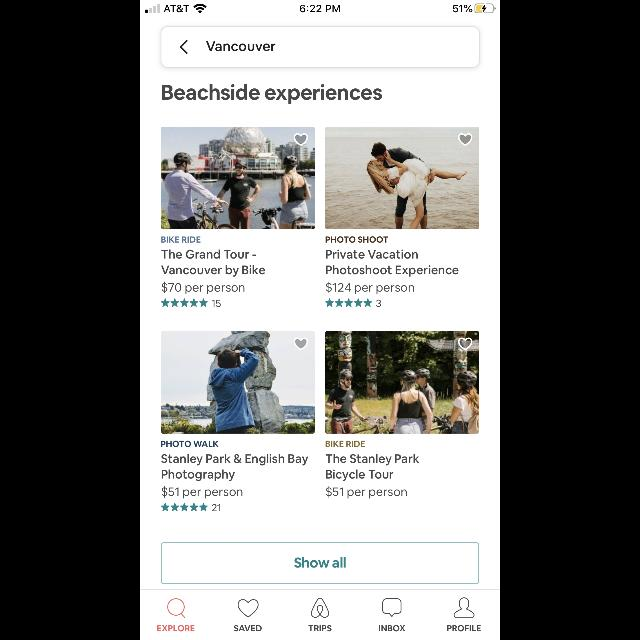icon: (326, 298, 372, 308), (454, 598, 474, 618), (382, 598, 402, 618), (160, 503, 208, 511), (160, 299, 208, 307), (238, 599, 258, 617), (168, 598, 186, 618), (294, 338, 308, 350), (458, 338, 472, 350), (458, 134, 472, 146), (294, 134, 308, 146), (180, 40, 188, 54)
image: (326, 332, 478, 434), (162, 332, 314, 434), (326, 127, 478, 229), (162, 127, 314, 229), (311, 598, 329, 618)
input: (161, 27, 479, 68)
text: (162, 84, 382, 104), (162, 454, 308, 466), (326, 266, 458, 276), (326, 454, 419, 466), (326, 282, 414, 294), (161, 266, 265, 276), (162, 282, 244, 294), (326, 486, 406, 498), (162, 486, 242, 498), (162, 469, 234, 481), (162, 250, 256, 258), (327, 250, 418, 258), (207, 42, 276, 52), (326, 470, 394, 480), (162, 440, 218, 448), (326, 237, 388, 243), (326, 441, 364, 447), (162, 237, 200, 243), (158, 625, 195, 631), (448, 625, 480, 631), (234, 625, 262, 631), (379, 625, 405, 631), (308, 625, 332, 631), (212, 504, 220, 512), (376, 299, 382, 307), (212, 300, 220, 306)
textbutton: (162, 542, 478, 584)
uppertaskbar: (140, 0, 500, 14)
